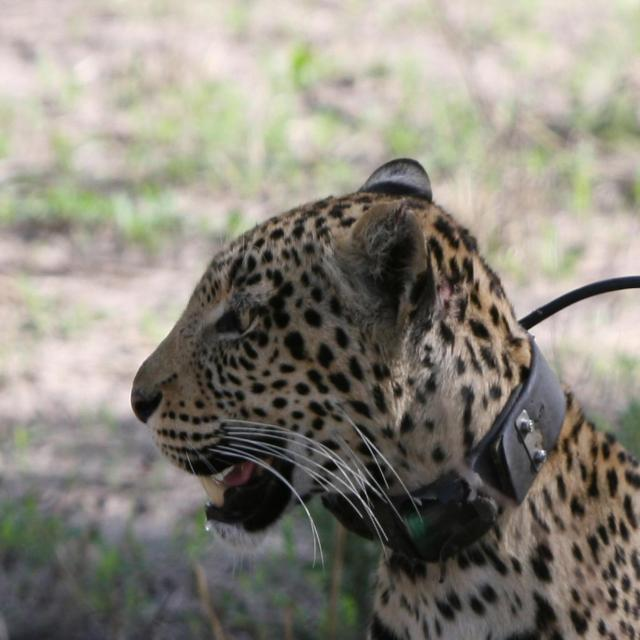Leopard: (123, 139, 636, 640)
